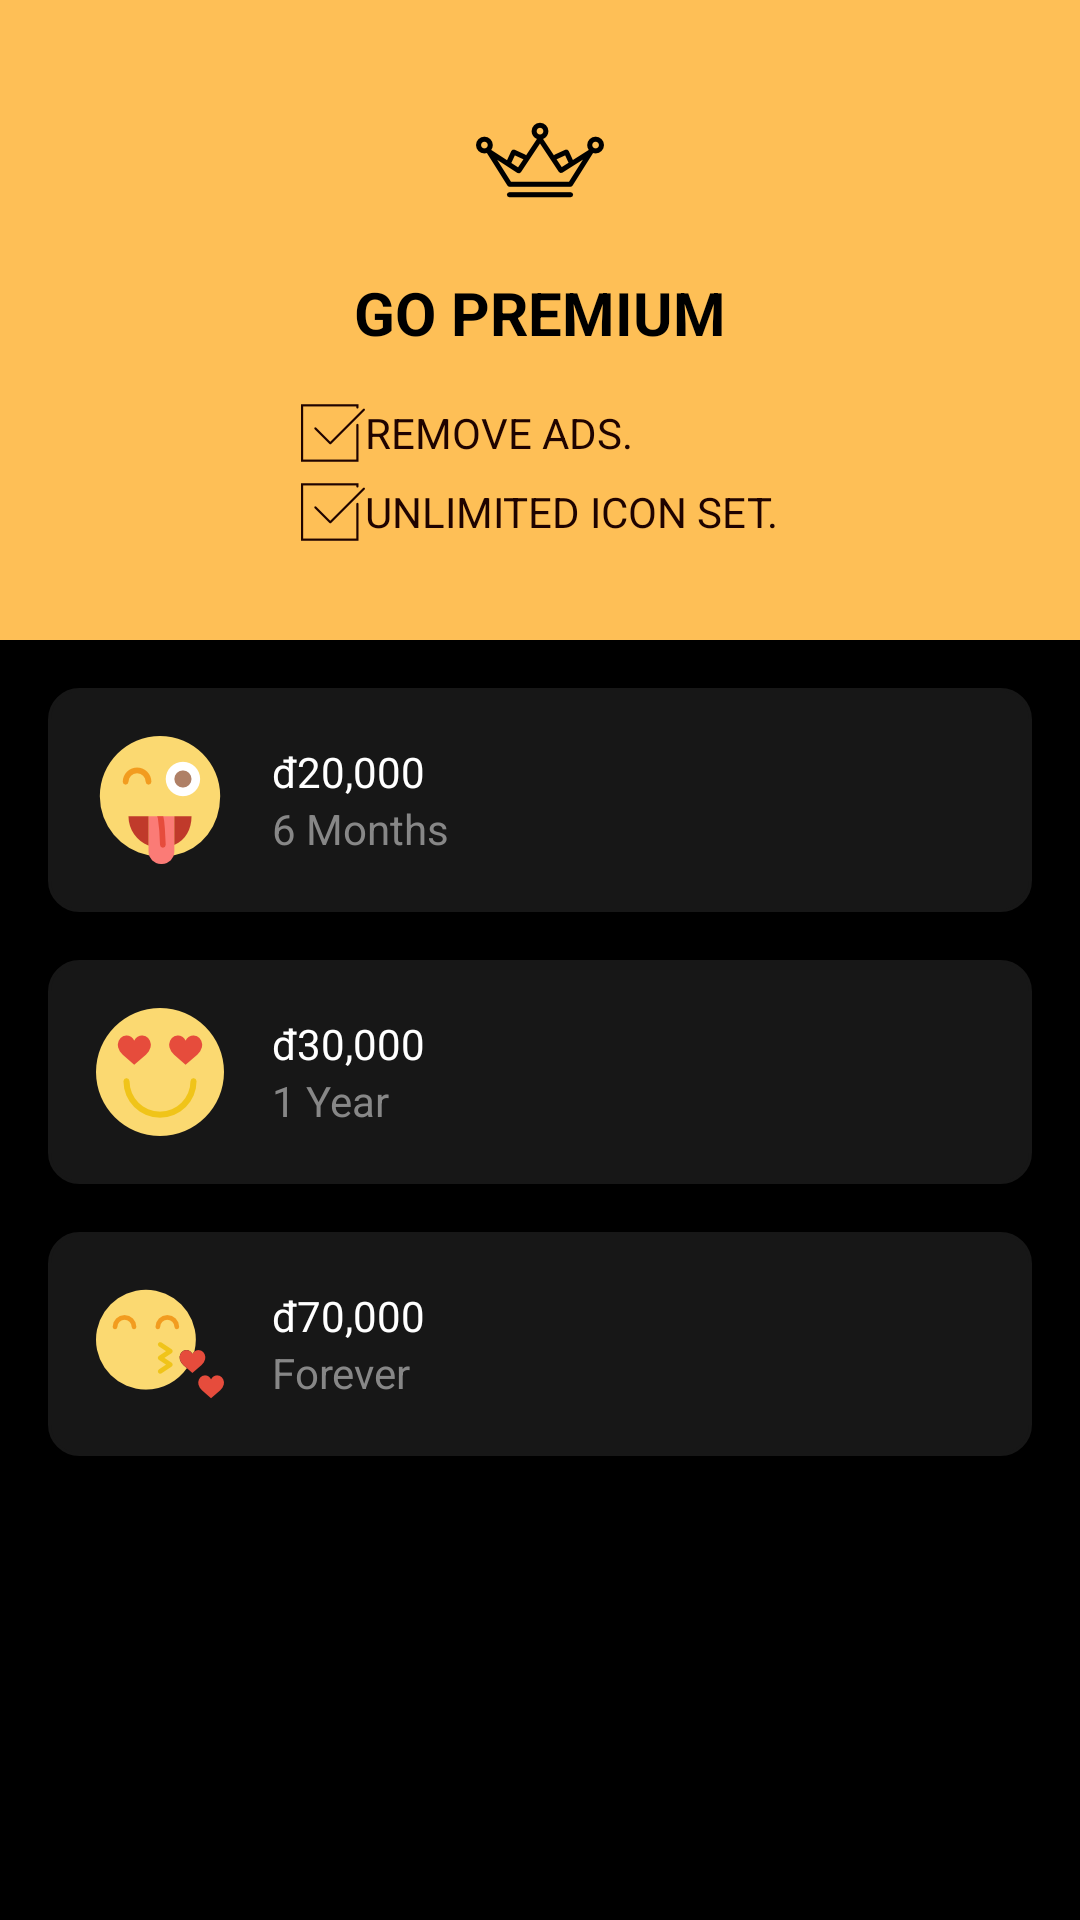

Screen size 1080*1920. Icon name, then its center in pixels as point (x, y):
check: point (333, 433), point (333, 512)
emotion: point (160, 800), point (160, 1072), point (160, 1343)
